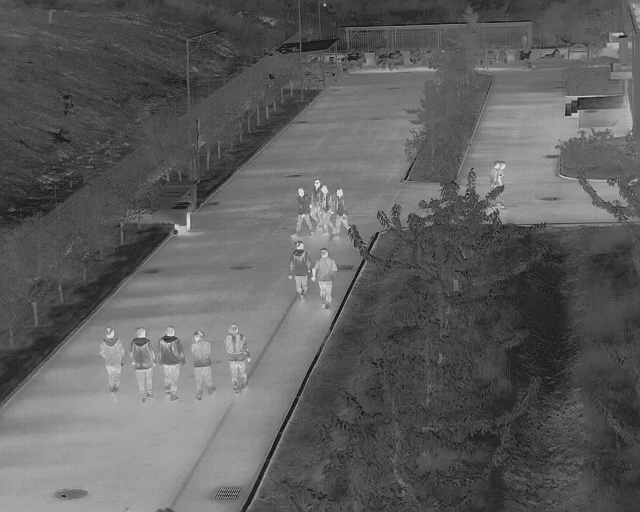person: (155, 326, 185, 402), (97, 326, 124, 399), (224, 324, 252, 394), (189, 330, 216, 401), (129, 326, 154, 401), (287, 240, 312, 301), (313, 247, 337, 310), (294, 186, 312, 238), (333, 187, 350, 240), (315, 184, 331, 237), (490, 160, 507, 189)
